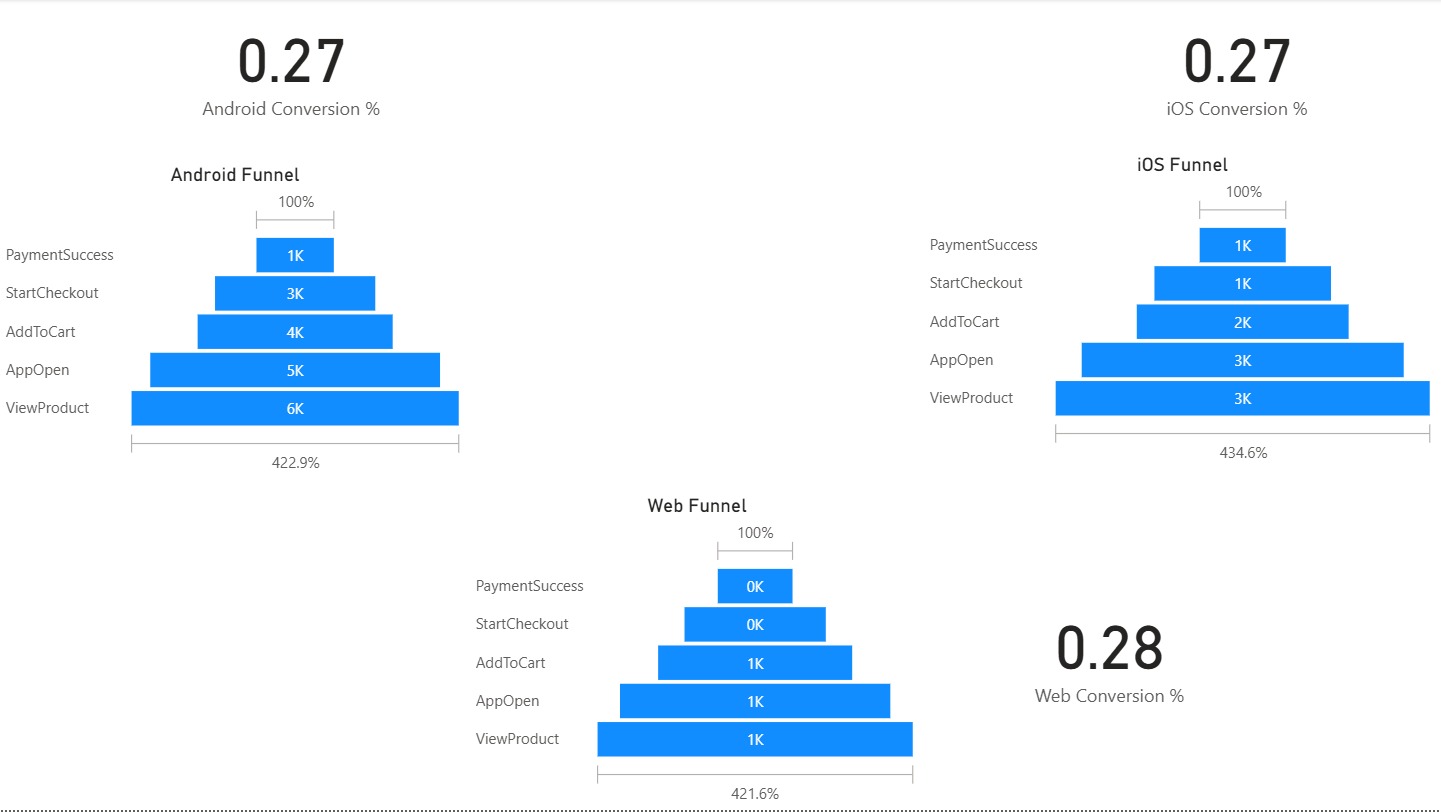

This screenshot's page, from the dashboard's own definition file:
{"tool":"powerbi","page":{"name":"Device-based Funnel","canvas":[1280,720],"ordinal":3},"visuals":[{"type":"funnel","fields":{"Category":["FunnelSteps.StepName"],"Y":["EventWithCohort.Funnel Step Value"]},"box":[0,145.7,417.5,280.7],"z":0},{"type":"funnel","fields":{"Category":["FunnelSteps.StepName"],"Y":["EventWithCohort.Funnel Step Value"]},"box":[820.8,136.8,459.2,280.7],"z":1000},{"type":"funnel","fields":{"Category":["FunnelSteps.StepName"],"Y":["EventWithCohort.Funnel Step Value"]},"box":[417.5,439.7,403.3,280.7],"z":2000},{"type":"card","fields":{"Values":["EventWithCohort.Android Conversion %"]},"box":[153.7,0,209.6,117.3],"z":3000},{"type":"card","fields":{"Values":["EventWithCohort.iOS Conversion %"]},"box":[1012.6,0,172.3,117.3],"z":4000},{"type":"card","fields":{"Values":["EventWithCohort.Web Conversion %"]},"box":[872.3,473.4,226.5,213.2],"z":5000}]}

Visuals, with their boxes in screenshot pixels (x1, y1, x2, y2), scaled from the page's 1280x720 canvas onto the 1441x812 screenshot:
funnel - FunnelSteps.StepName x EventWithCohort.Funnel Step Value: box=[0, 164, 470, 481]
funnel - FunnelSteps.StepName x EventWithCohort.Funnel Step Value: box=[924, 154, 1440, 471]
funnel - FunnelSteps.StepName x EventWithCohort.Funnel Step Value: box=[470, 496, 924, 811]
card - EventWithCohort.Android Conversion %: box=[173, 0, 409, 132]
card - EventWithCohort.iOS Conversion %: box=[1140, 0, 1334, 132]
card - EventWithCohort.Web Conversion %: box=[982, 534, 1237, 774]
